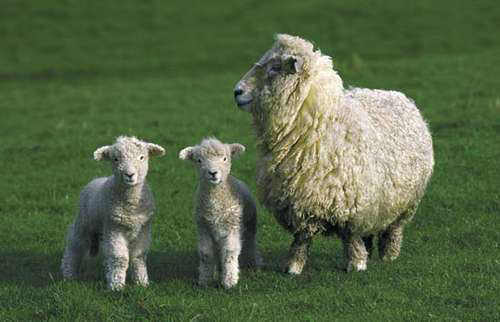koyun: (237, 35, 434, 272), (59, 136, 166, 290), (180, 136, 234, 287)
